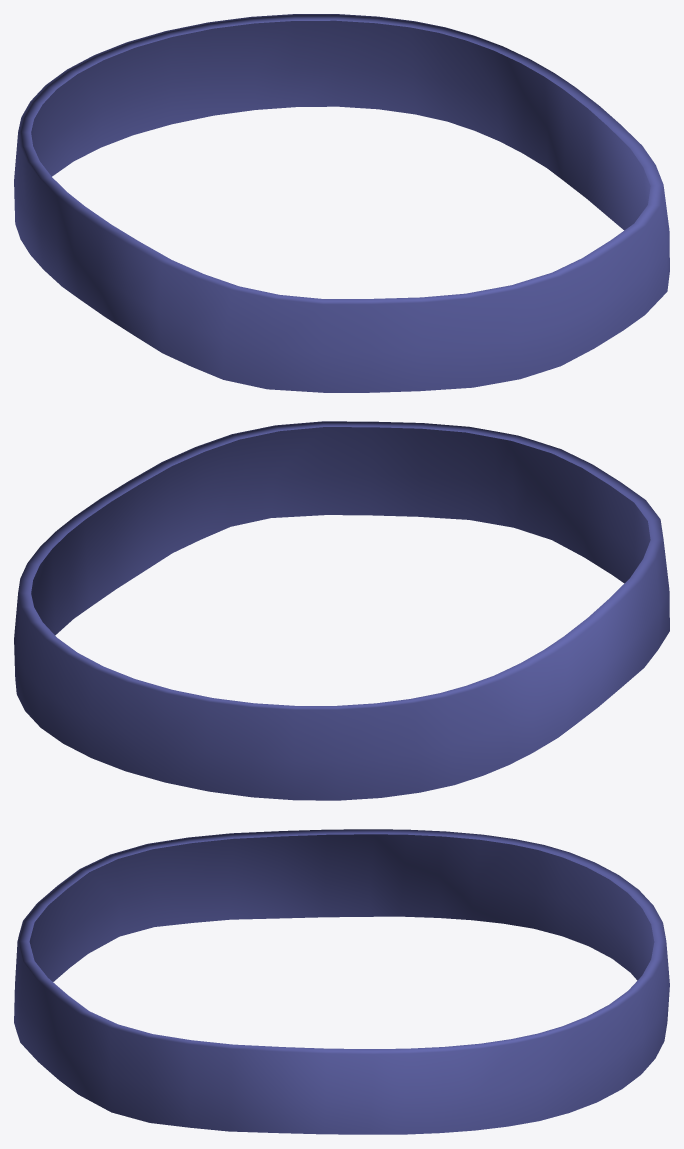
The model's file is Bandana.fbx.
The picture shows the model from 3 angles, top to bottom: view 1: azimuth 30°, elevation 25°; view 2: azimuth 150°, elevation 25°; view 3: azimuth 270°, elevation 25°; orthographic projection. The views are drawn at different scales.
Parts seen in each view (by area): view 1: Bandana_Hat; view 2: Bandana_Hat; view 3: Bandana_Hat.
Boxes of the visible parts, bbox=[...] form: Bandana_Hat: bbox=[14, 14, 669, 392]; Bandana_Hat: bbox=[14, 421, 669, 800]; Bandana_Hat: bbox=[14, 829, 669, 1134].
Bounding box in the file's own units: 31.09 × 5.33 × 38.15.
